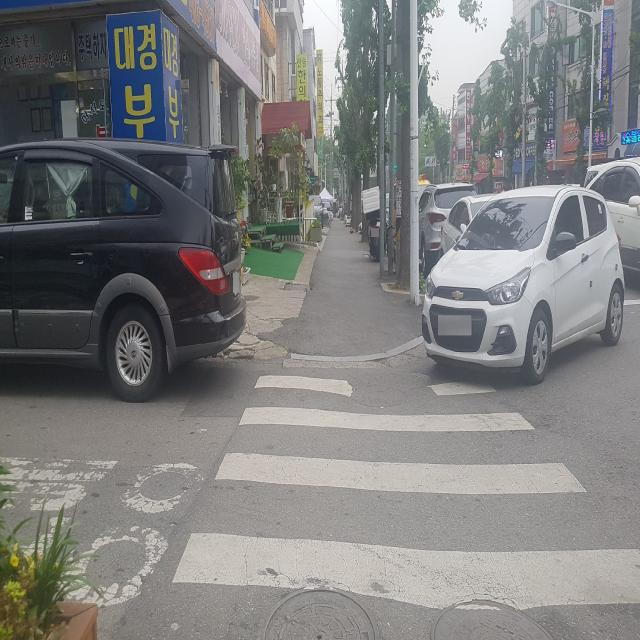횡단보도: (170, 372, 640, 613)
